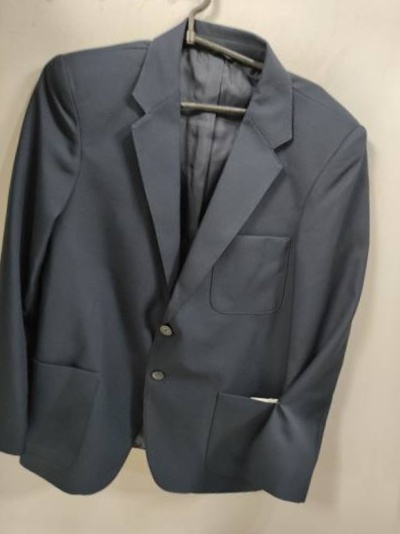Blazer: (0, 13, 400, 523), (376, 59, 400, 534)
